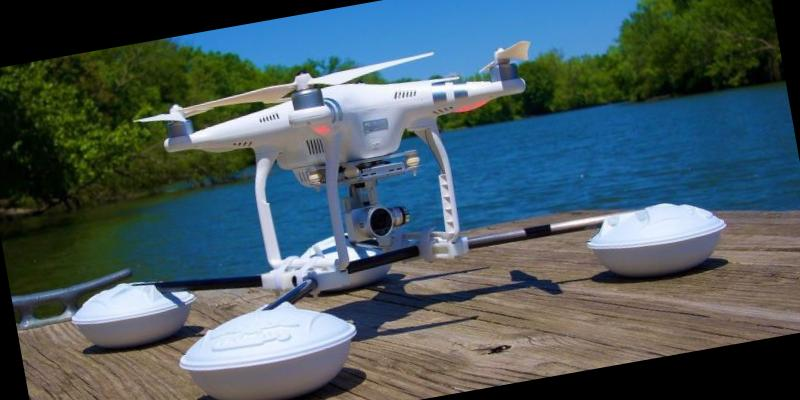drone: (114, 18, 566, 243)
